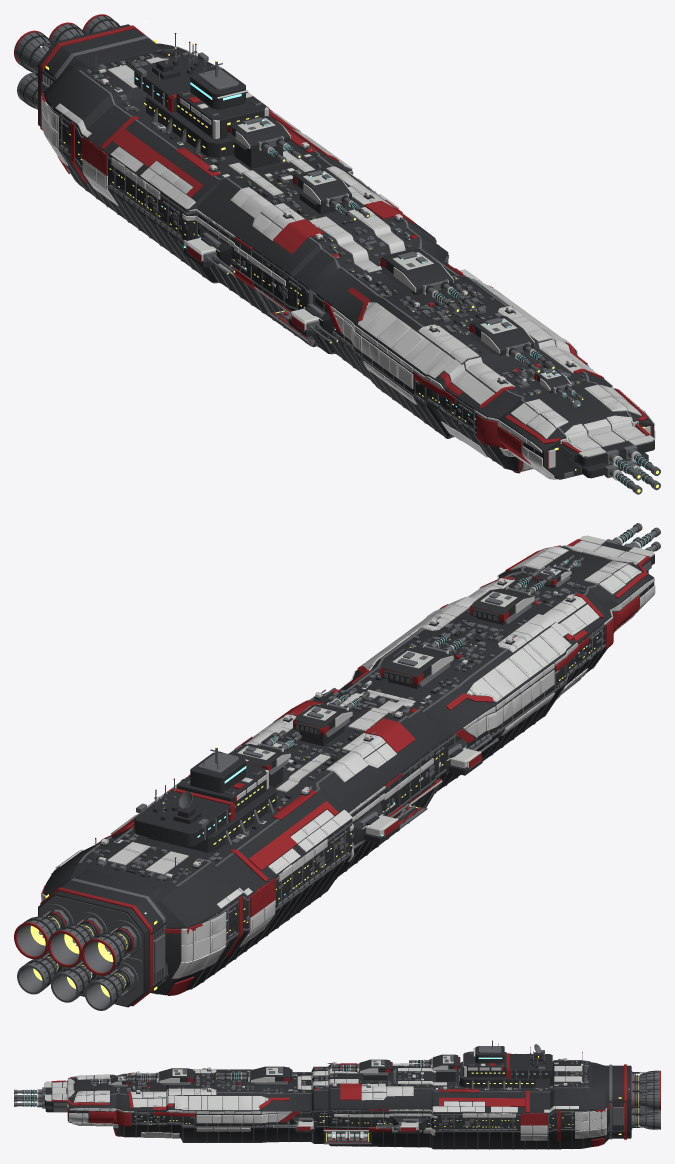
The picture shows the model from 3 angles, top to bottom: view 1: azimuth 30°, elevation 25°; view 2: azimuth 150°, elevation 25°; view 3: azimuth 270°, elevation 25°; orthographic projection. The views are drawn at different scales.
Parts seen in each view (by area): view 1: KV01_Coque, KV01_Tourelle_T2, KV01_Tourelle_T4, KV01_Tourelle_T1, KV01_Tourelle_T3, KV01_Sponson_SP1.L, KV01_Sponson_SP0.L, KV01_Tourelle_T0, KV01_PDC; view 2: KV01_Coque, KV01_Tourelle_T2, KV01_Tourelle_T1, KV01_Tourelle_T3, KV01_Tourelle_T4, KV01_Sponson_SP1.L, KV01_Sponson_SP0.L, KV01_PDC; view 3: KV01_Coque, KV01_Tourelle_T2, KV01_Tourelle_T4, KV01_Tourelle_T1, KV01_Tourelle_T3, KV01_Sponson_SP1.R, KV01_Sponson_SP0.R, KV01_Tourelle_T0, KV01_PDC.
Part boxes in pixels (x1=…): KV01_Coque: x1=14, y1=14, x2=660, y2=494; KV01_Tourelle_T2: x1=380, y1=249, x2=475, y2=313; KV01_Tourelle_T4: x1=227, y1=116, x2=301, y2=168; KV01_Tourelle_T1: x1=469, y1=315, x2=555, y2=373; KV01_Tourelle_T3: x1=293, y1=169, x2=369, y2=221; KV01_Sponson_SP1.L: x1=184, y1=232, x2=235, y2=274; KV01_Sponson_SP0.L: x1=288, y1=304, x2=338, y2=343; KV01_Tourelle_T0: x1=534, y1=369, x2=583, y2=402; KV01_PDC: x1=100, y1=56, x2=577, y2=384; KV01_Coque: x1=14, y1=523, x2=660, y2=1010; KV01_Tourelle_T2: x1=380, y1=626, x2=475, y2=688; KV01_Tourelle_T1: x1=469, y1=569, x2=555, y2=624; KV01_Tourelle_T3: x1=293, y1=688, x2=369, y2=746; KV01_Tourelle_T4: x1=230, y1=730, x2=301, y2=787; KV01_Sponson_SP1.L: x1=359, y1=803, x2=415, y2=843; KV01_Sponson_SP0.L: x1=446, y1=736, x2=498, y2=775; KV01_PDC: x1=100, y1=575, x2=577, y2=868; KV01_Coque: x1=14, y1=1039, x2=660, y2=1149; KV01_Tourelle_T2: x1=216, y1=1066, x2=292, y2=1085; KV01_Tourelle_T4: x1=409, y1=1054, x2=460, y2=1081; KV01_Tourelle_T1: x1=127, y1=1068, x2=195, y2=1084; KV01_Tourelle_T3: x1=331, y1=1059, x2=392, y2=1079; KV01_Sponson_SP1.R: x1=376, y1=1118, x2=419, y2=1133; KV01_Sponson_SP0.R: x1=273, y1=1118, x2=315, y2=1132; KV01_Tourelle_T0: x1=91, y1=1076, x2=131, y2=1086; KV01_PDC: x1=131, y1=1058, x2=567, y2=1093.
Bounding box in the file's own units: 259 × 214 × 1318.
